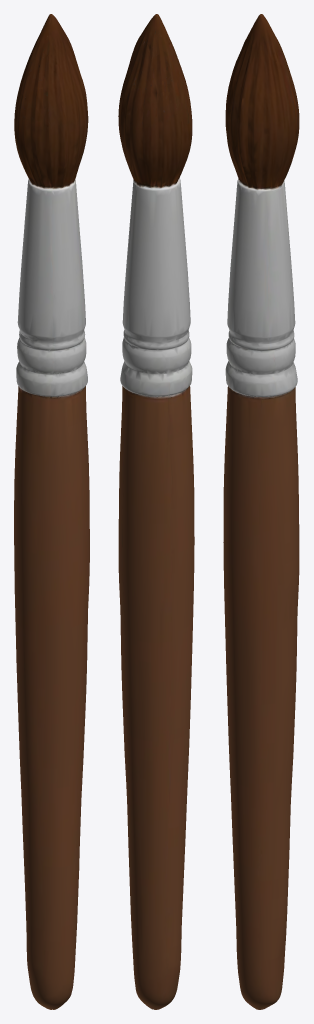
File: brush.glb
The picture shows the model from 3 angles, left to right: view 1: azimuth 30°, elevation 25°; view 2: azimuth 150°, elevation 25°; view 3: azimuth 330°, elevation 25°; orthographic projection.
Parts seen in each view (by area): view 1: Mesh_0; view 2: Mesh_0; view 3: Mesh_0.
Part boxes in pixels (x1,y1,x2,y2): Mesh_0: (14,14,89,1009); Mesh_0: (118,14,194,1009); Mesh_0: (223,14,299,1009).
Size of the model in its own units: 0.0886 by 1.2 by 0.0805.
Materials: 1 (1 with a texture image).
